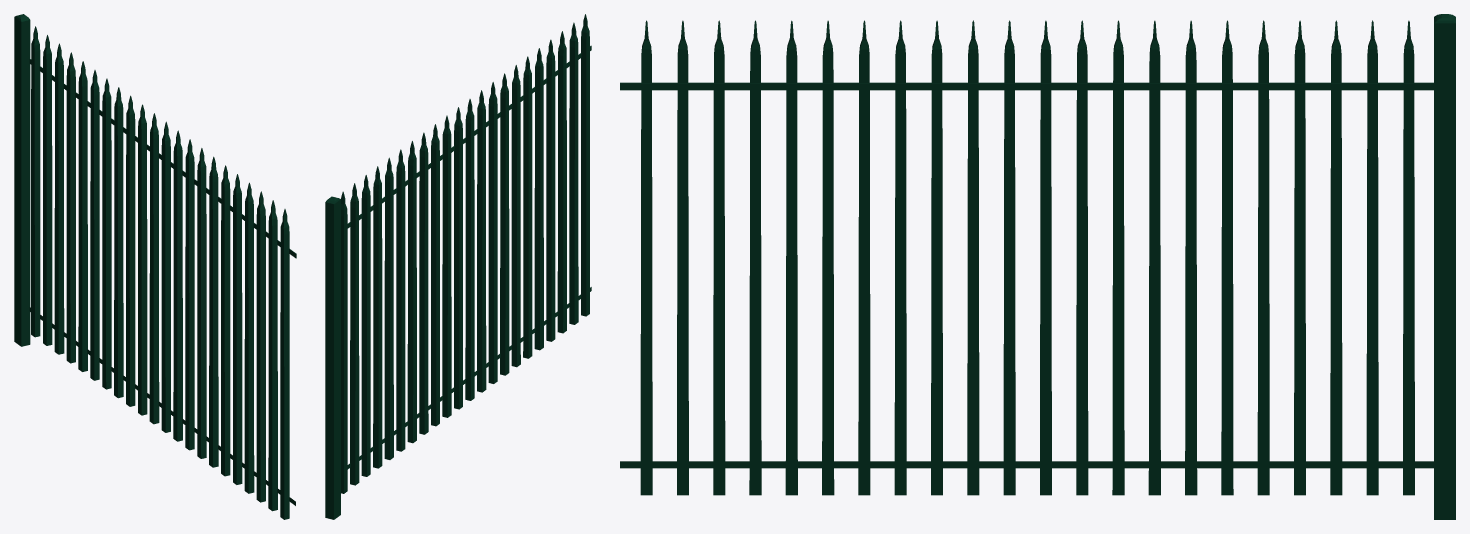
Rendered from green spikey fence with one post new export settings CURRENT.fbx.
3 renders of one model, left to right at view 1: azimuth 30°, elevation 25°; view 2: azimuth 150°, elevation 25°; view 3: azimuth 270°, elevation 25°, orthographic. The views are drawn at different scales.
Parts seen in each view (by area): view 1: joined mesh of all fence parts; view 2: joined mesh of all fence parts; view 3: joined mesh of all fence parts.
Boxes of the visible parts, bbox=[...] form: joined mesh of all fence parts: bbox=[14, 14, 296, 519]; joined mesh of all fence parts: bbox=[325, 14, 591, 519]; joined mesh of all fence parts: bbox=[620, 14, 1455, 519].
Size of the model in its own units: 0.2996 by 15.73 by 10.4.
